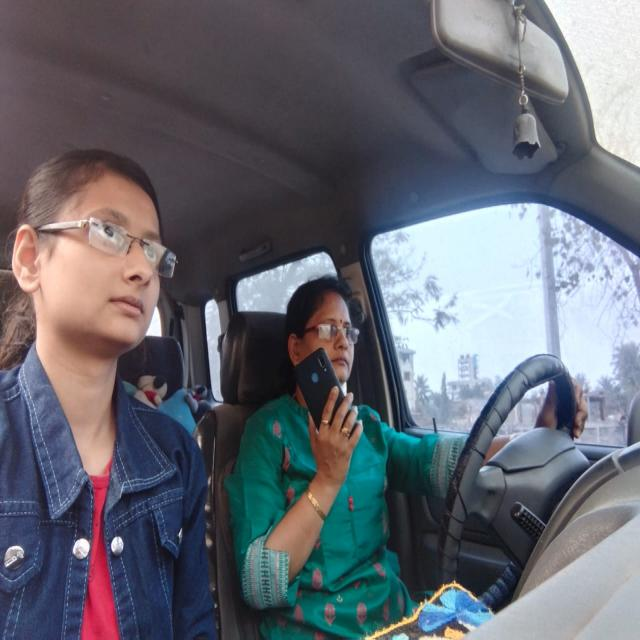mobile: (296, 347, 358, 455)
person: (18, 147, 184, 383), (284, 276, 362, 426)
